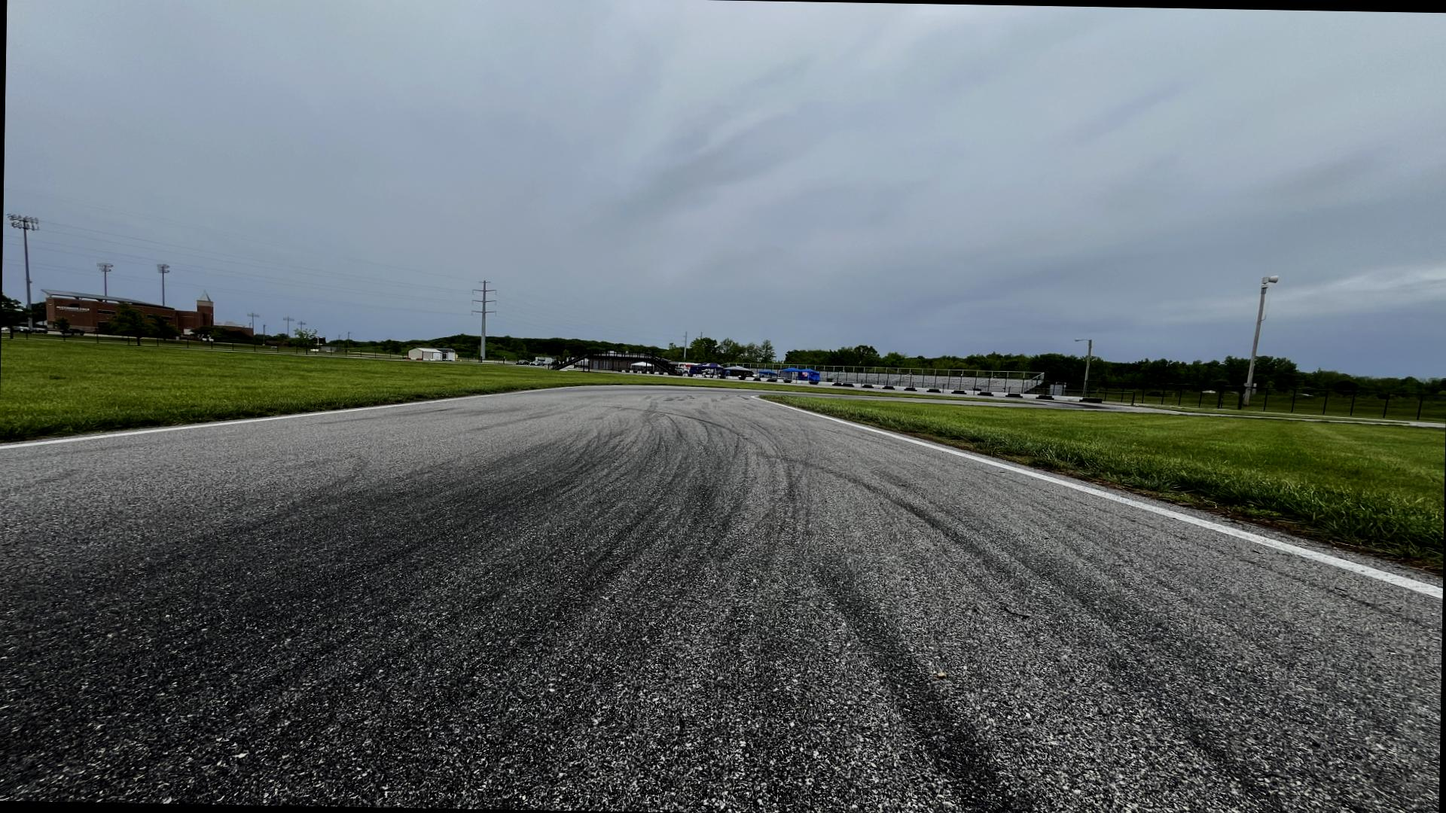white-line: (750, 396, 1442, 602), (0, 386, 644, 451)
